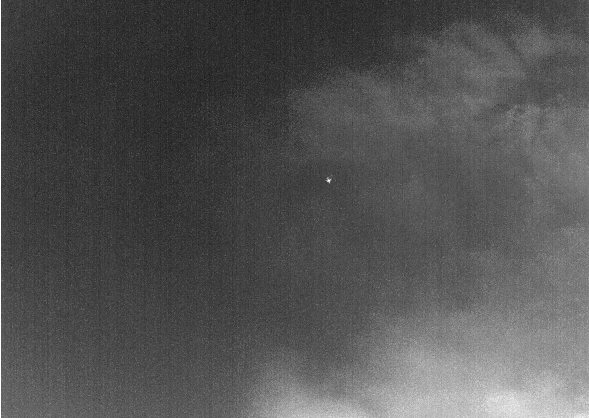dim target: (324, 177, 332, 184)
